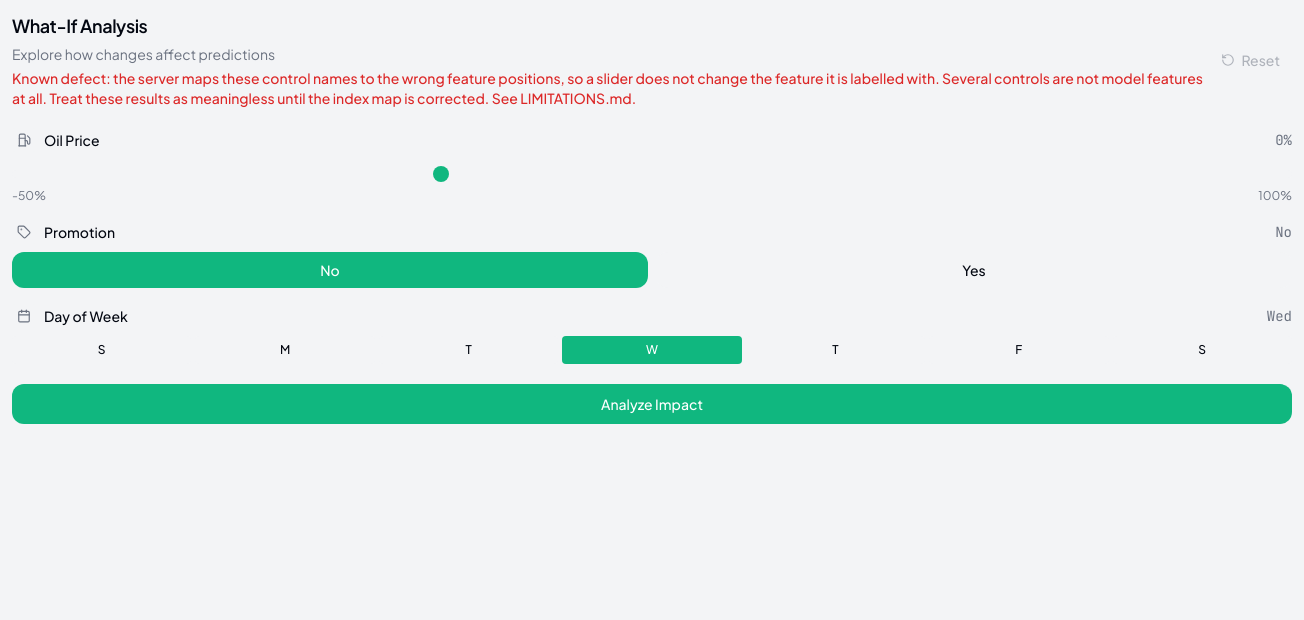
WhatIfAnalysis › displays positive delta with success color
The width and height of the screenshot is (1304, 620).
What coordinates should you click on to do the following:
click the button "Analyze Impact"
I would click on:
 (652, 404)
Its box is [12, 384, 1292, 424].
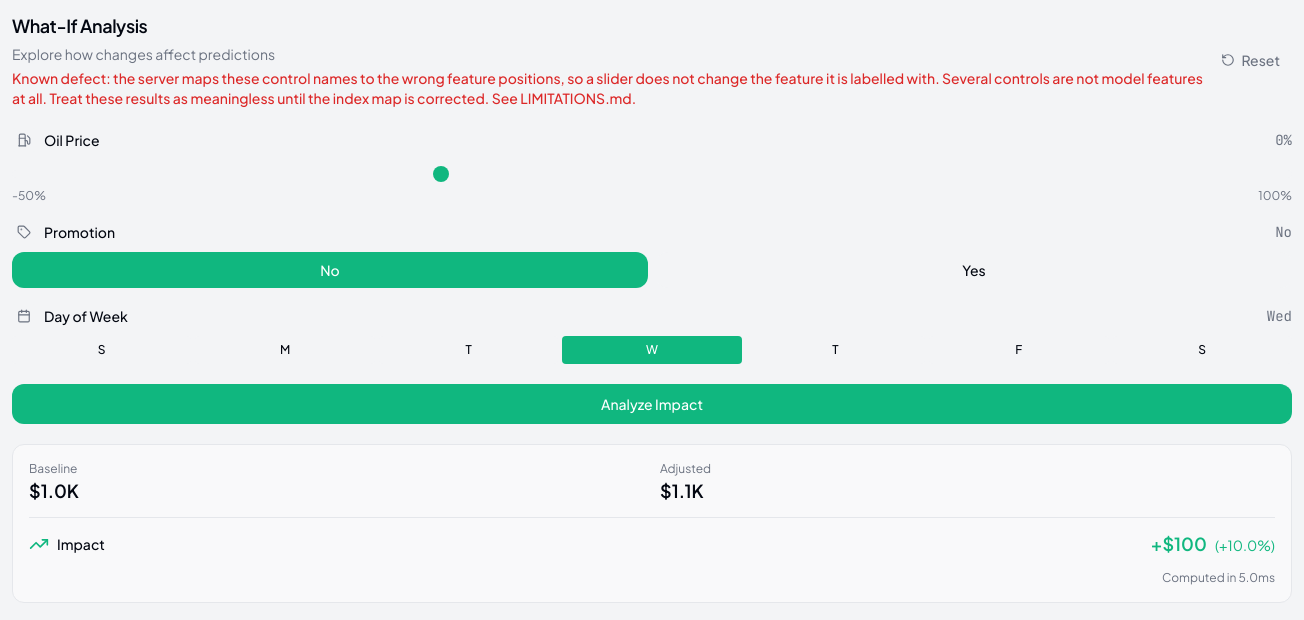
Check: the icon in the row of "+$100" is shown, box [29, 534, 49, 554]
